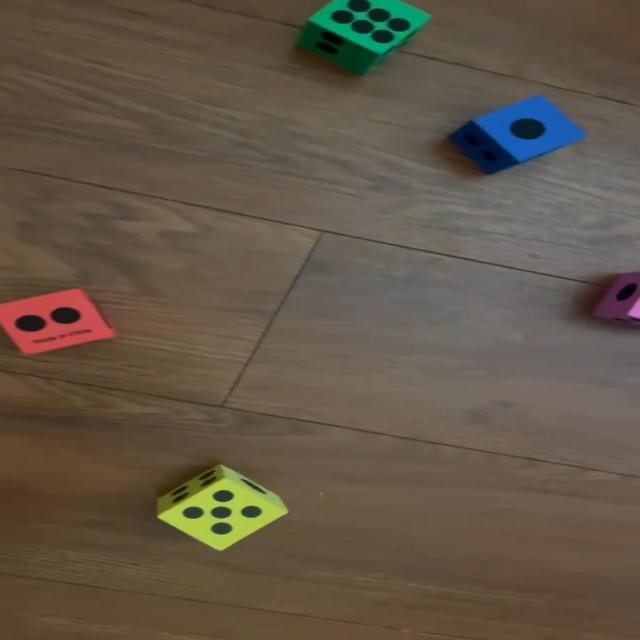blue_block: (452, 95, 587, 176)
red_block: (0, 290, 118, 356)
